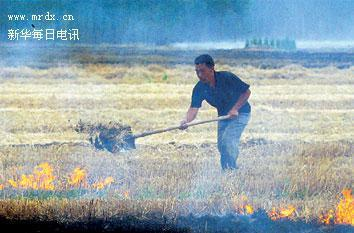fire: (0, 160, 116, 198), (317, 184, 352, 223), (266, 195, 297, 222), (229, 192, 256, 218), (121, 188, 130, 197)
